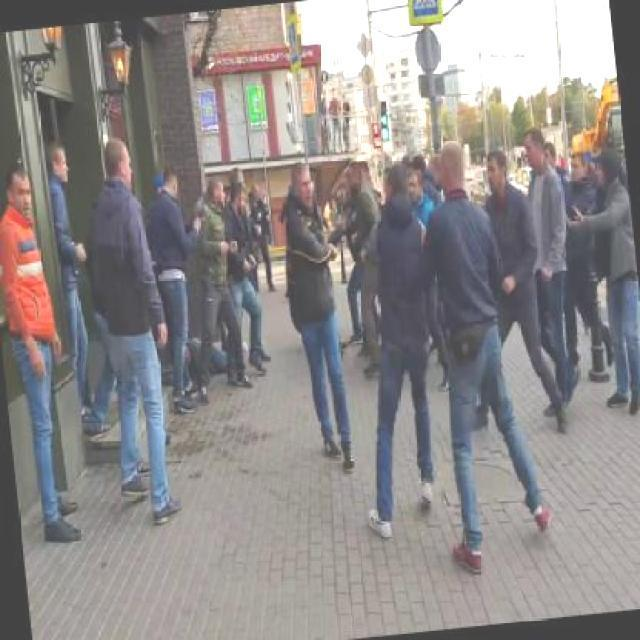non-fight: (79, 134, 187, 528), (0, 162, 85, 544)
